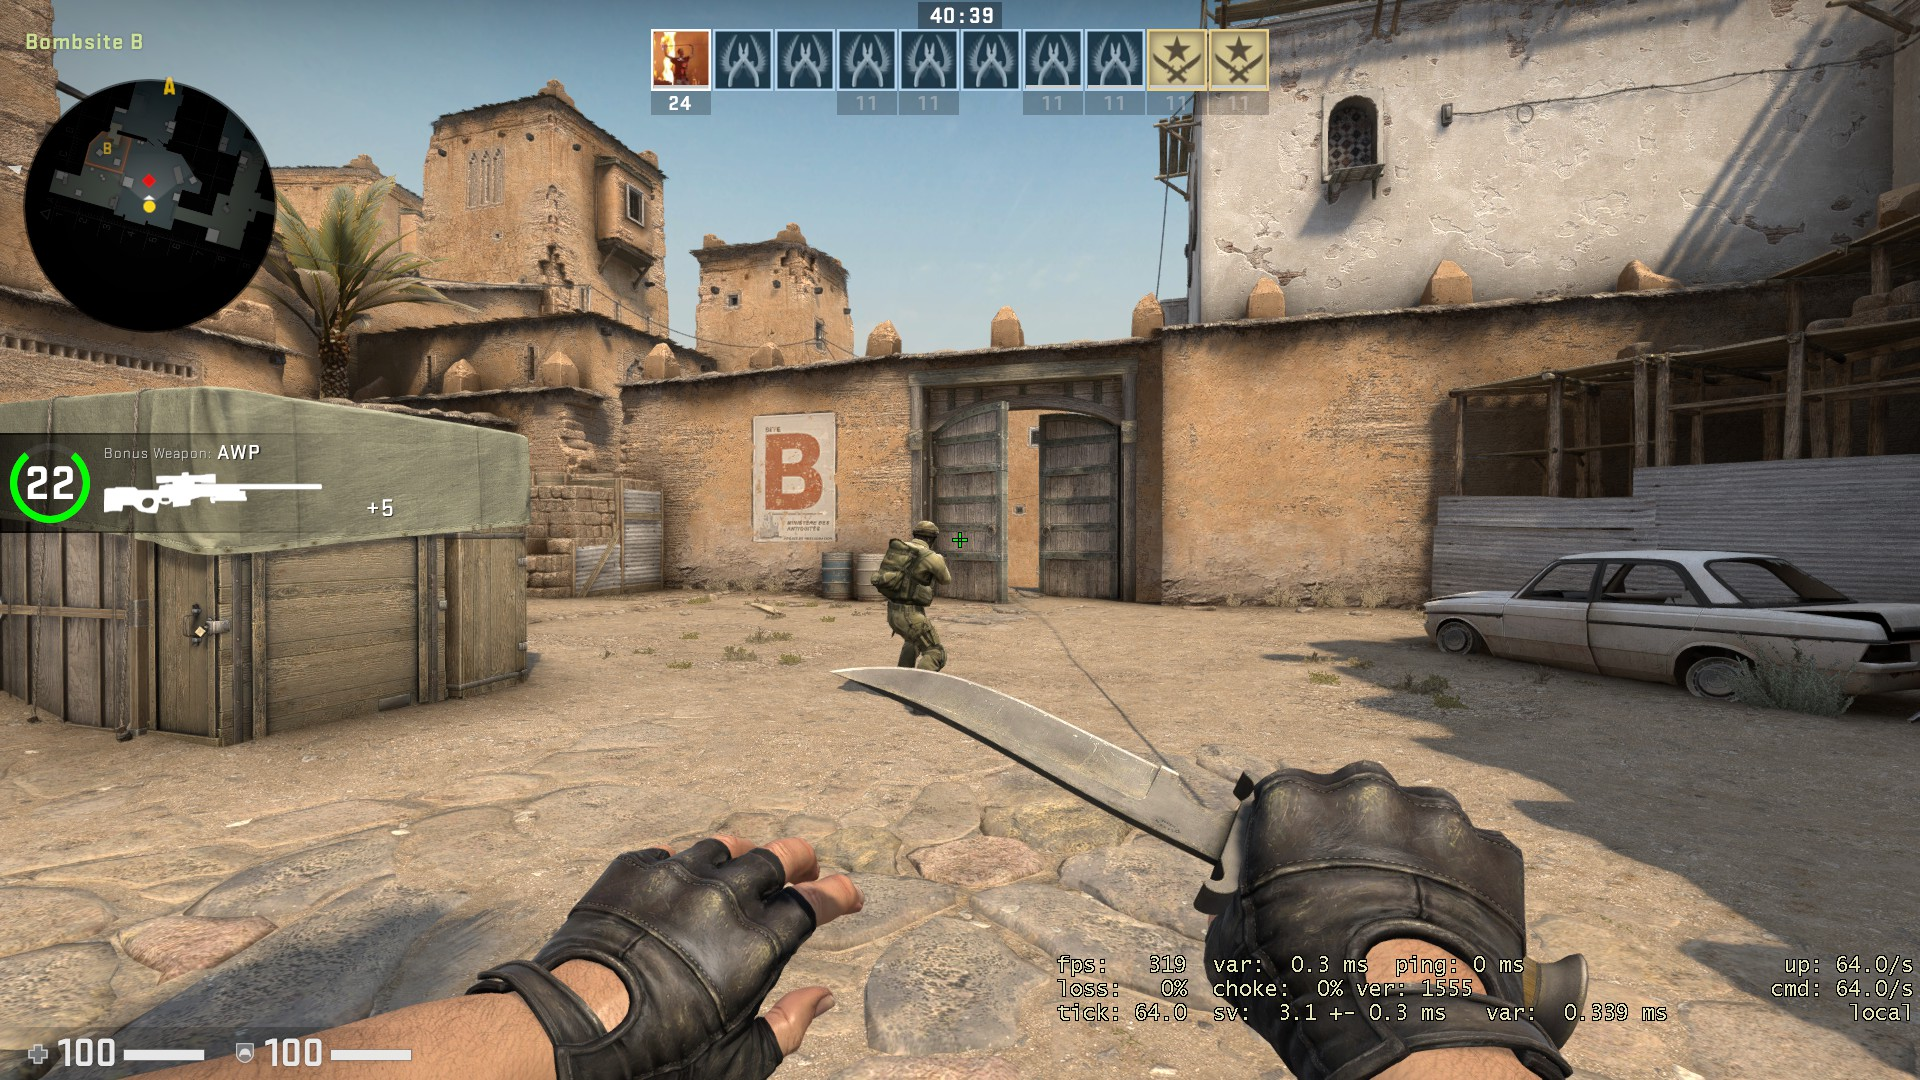player: (868, 517, 955, 708)
